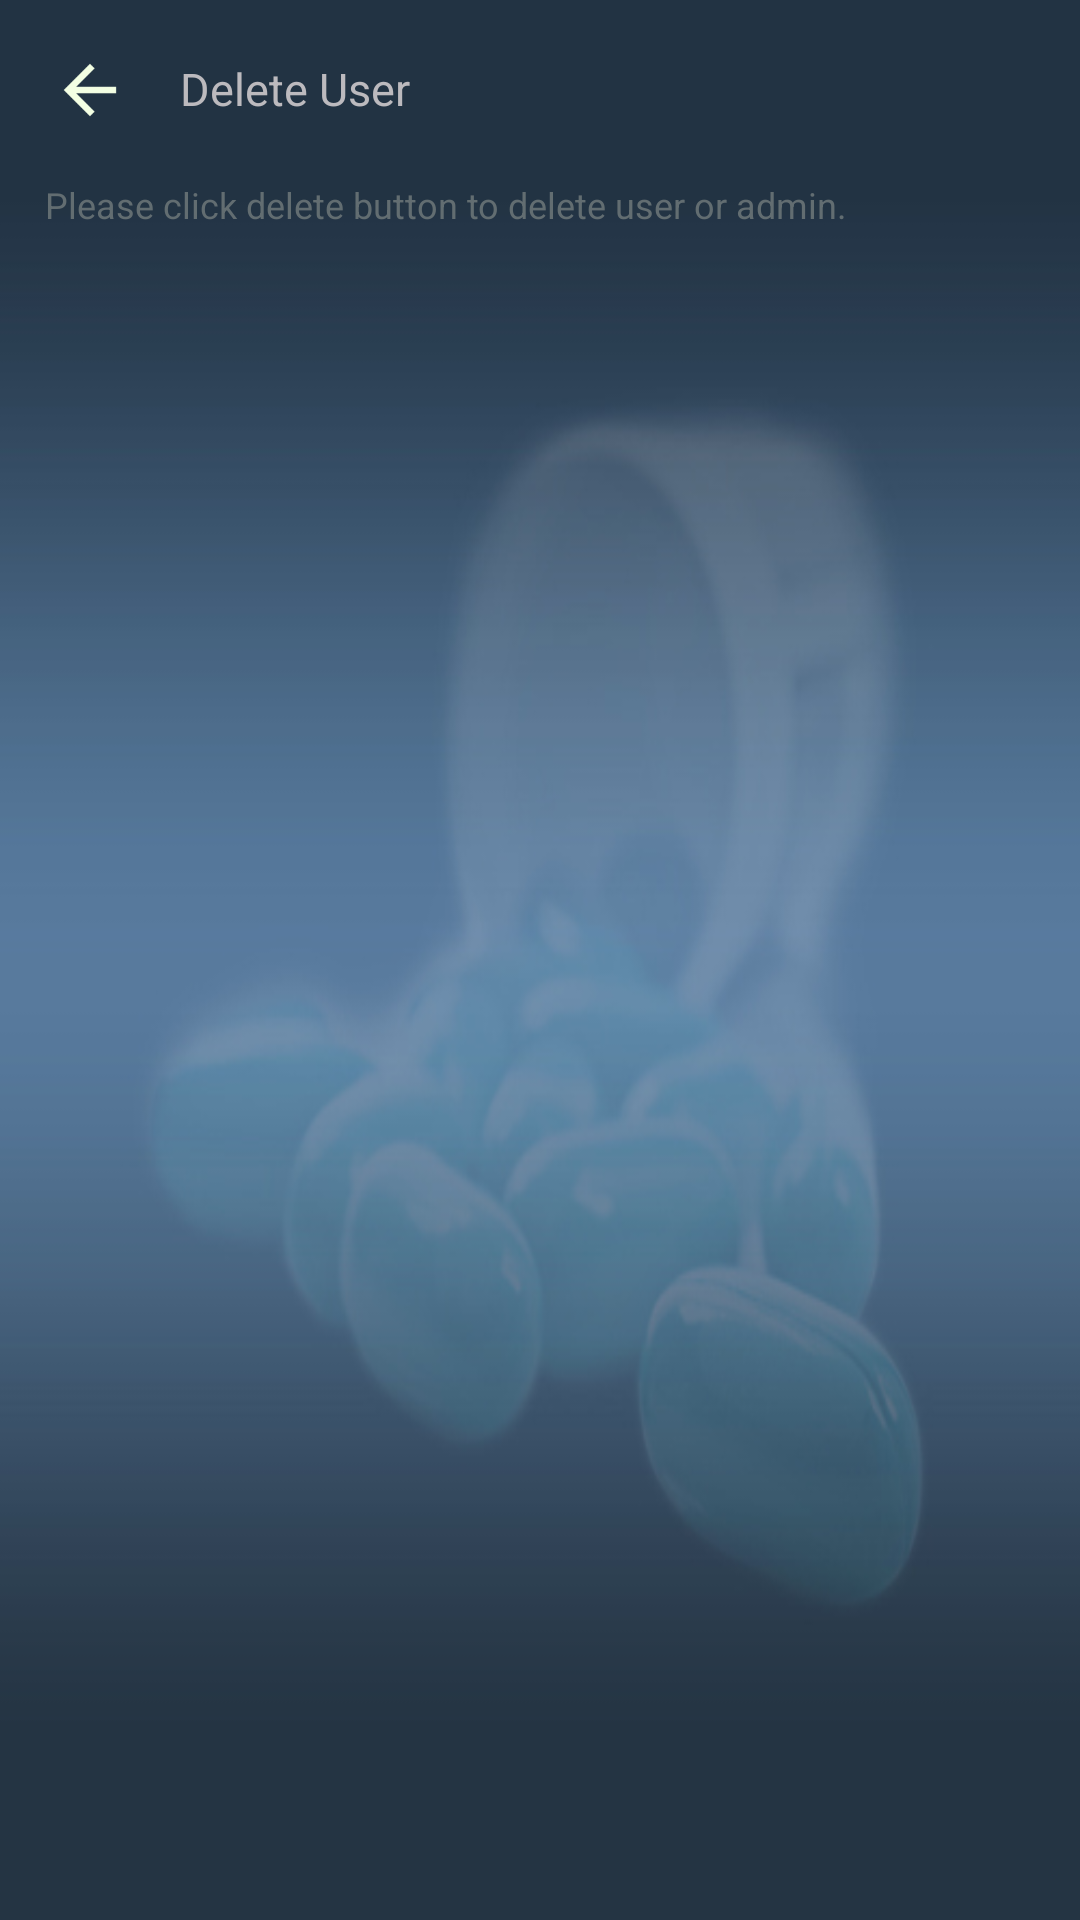

Screen size 1080px×1920px. Icon name, then its center in pixels as point (x, y):
arrow back: point (90, 90)
